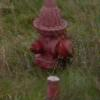Hydrant: (23, 3, 79, 71)
